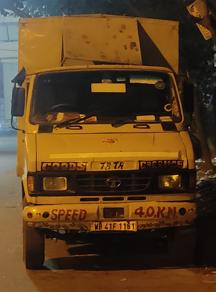Truck: (11, 12, 201, 278)
